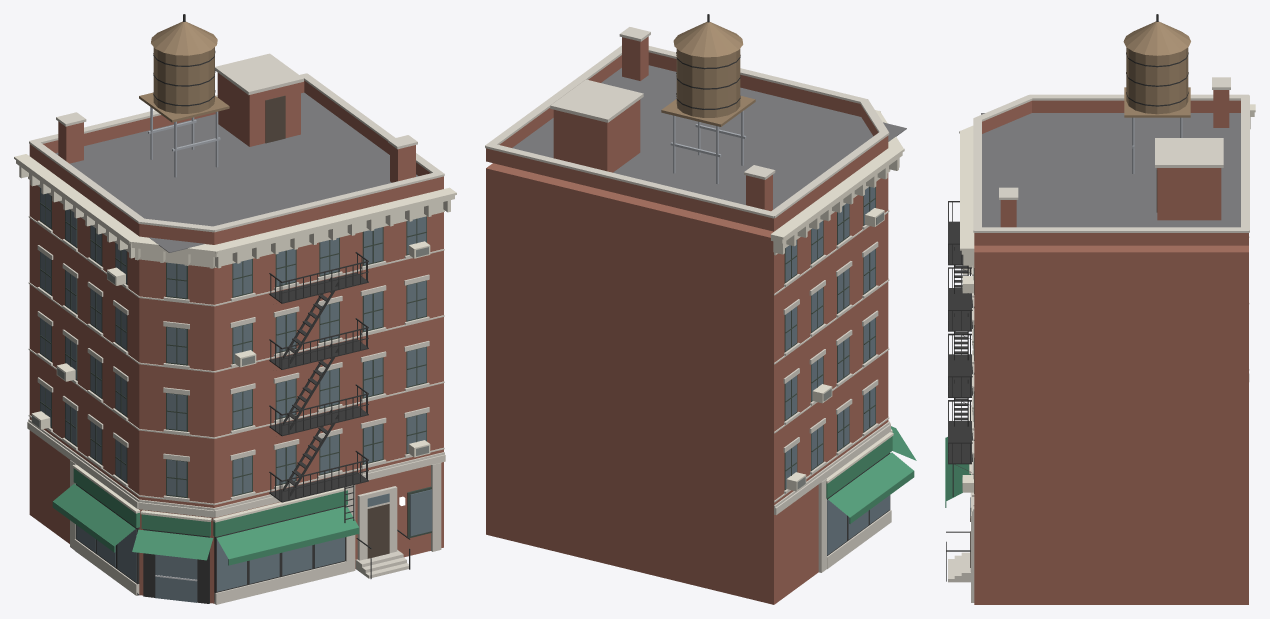
File: corner_bodega.glb
3 renders of one model, left to right at view 1: azimuth 30°, elevation 25°; view 2: azimuth 150°, elevation 25°; view 3: azimuth 270°, elevation 25°, orthographic. The views are drawn at different scales.
Visible parts, largest first — view 1: corner_bodega; view 2: corner_bodega; view 3: corner_bodega.
Part boxes in pixels (<box>): corner_bodega: <box>14,14,456,604</box>; corner_bodega: <box>485,14,916,604</box>; corner_bodega: <box>945,14,1255,604</box>.
Bounding box in the file's own units: 15.57 × 24.5 × 13.57.
